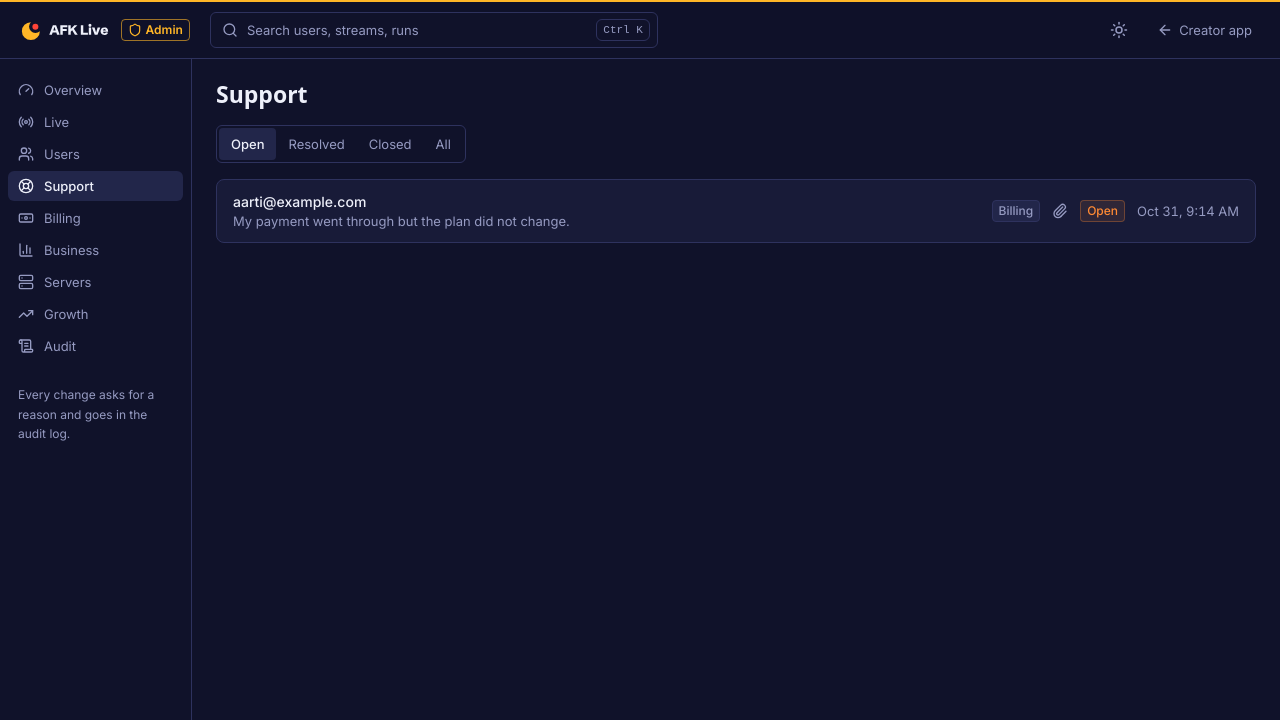
it: Admin › lists support tickets and opens one with its attachment
The width and height of the screenshot is (1280, 720).
Check: the text "Open" is shown, box [1080, 200, 1125, 222]
Check: the icon named "Has an attachment" is shown, box [1052, 203, 1068, 219]
Click the link "aarti@example.com". click: (300, 202)
box: [233, 193, 1239, 229]
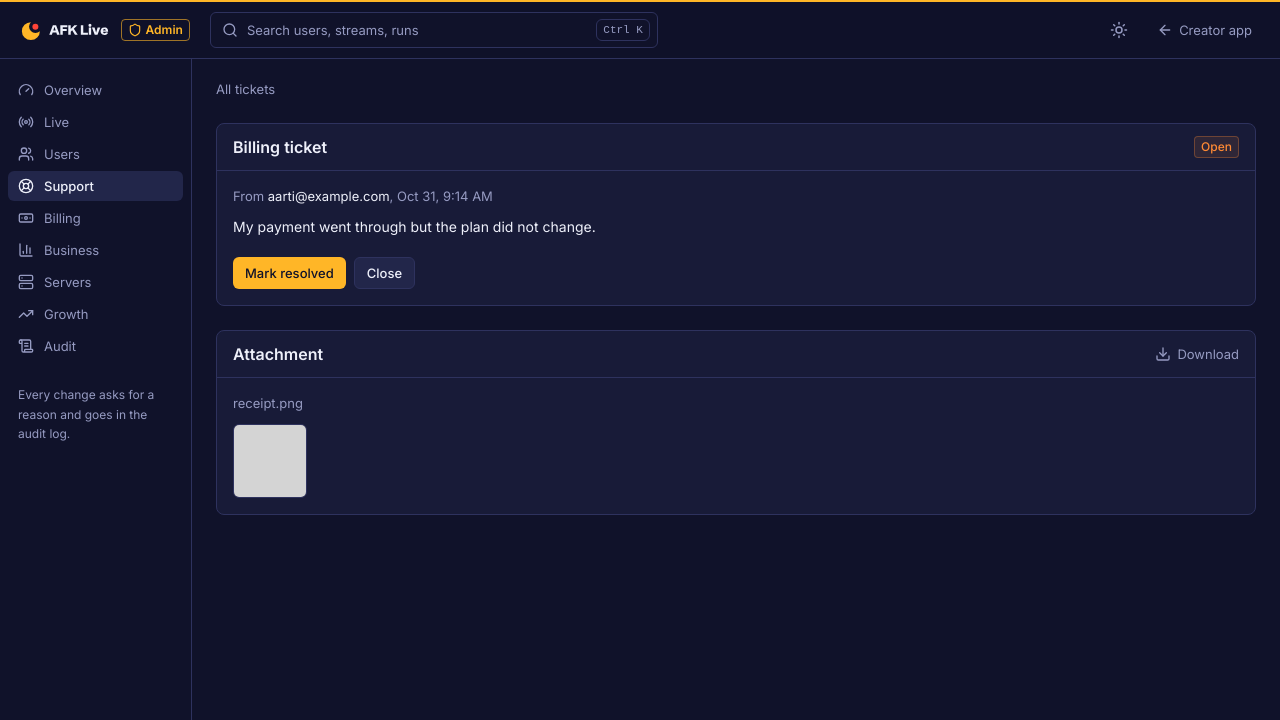
Check: the text "My payment went through but the plan did not change." is shown, box [233, 218, 596, 235]
Click the button "Mark resolved". click: (289, 273)
box: [233, 257, 346, 289]
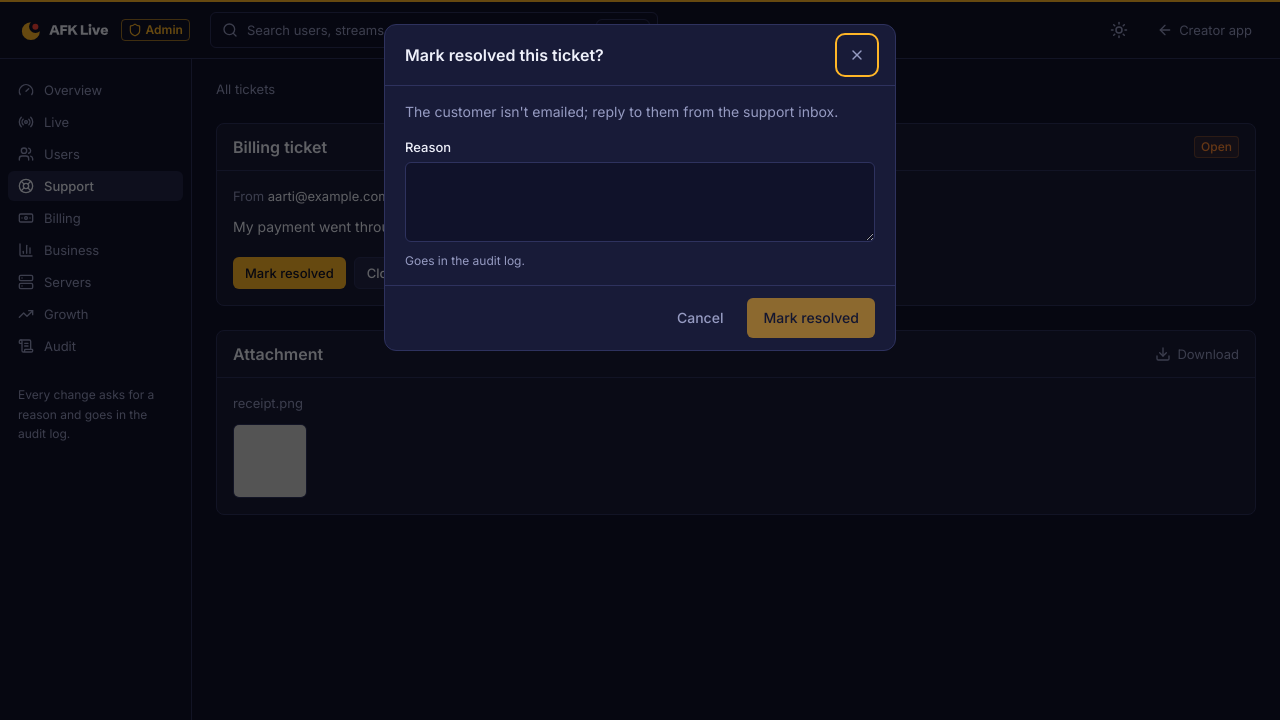
Type "Plan applied by hand" into the text box labelled "Reason". click: (640, 202)
box: [405, 162, 875, 242]
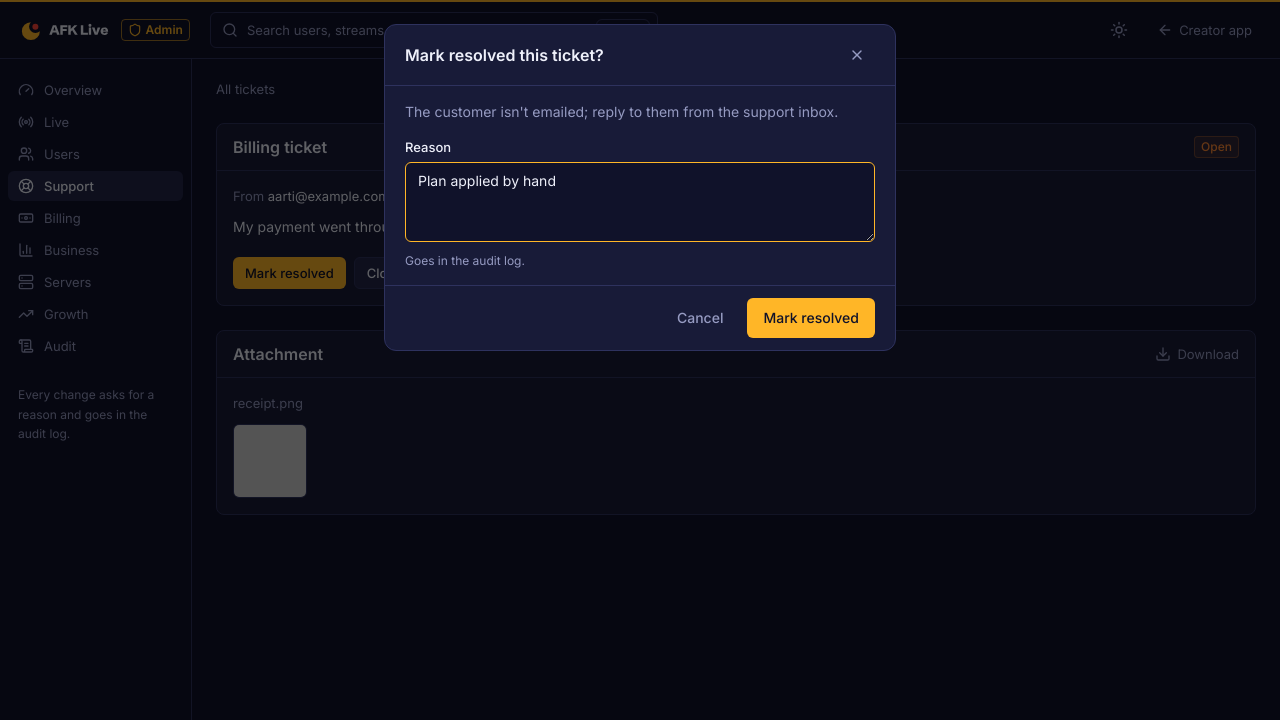
Click the button "Mark resolved". click: (811, 318)
box: [747, 298, 875, 338]
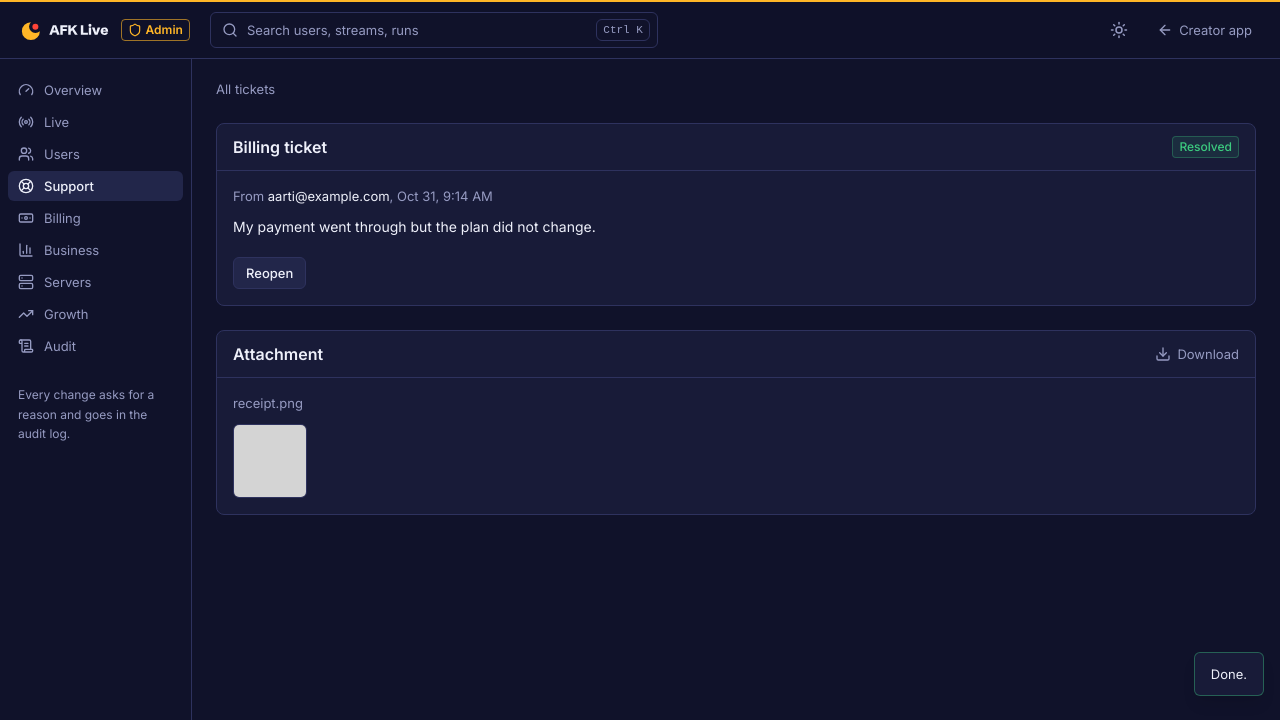
Check: the button "Reopen" is shown, box [233, 257, 306, 289]
